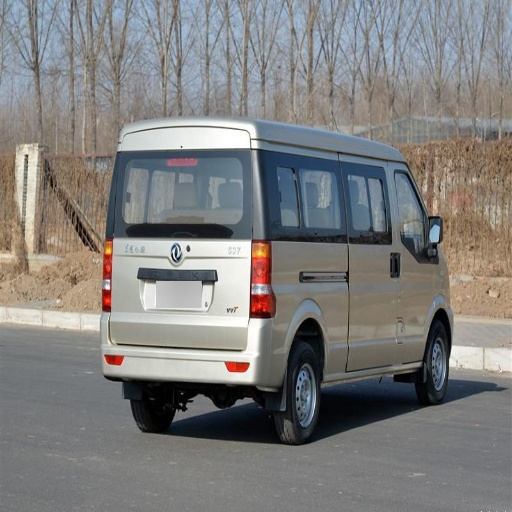back_bumper: (102, 315, 290, 384)
tailgate: (113, 151, 251, 308)
trunk: (280, 245, 432, 358), (105, 241, 254, 348)
